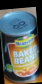beans: (1, 11, 40, 83)
